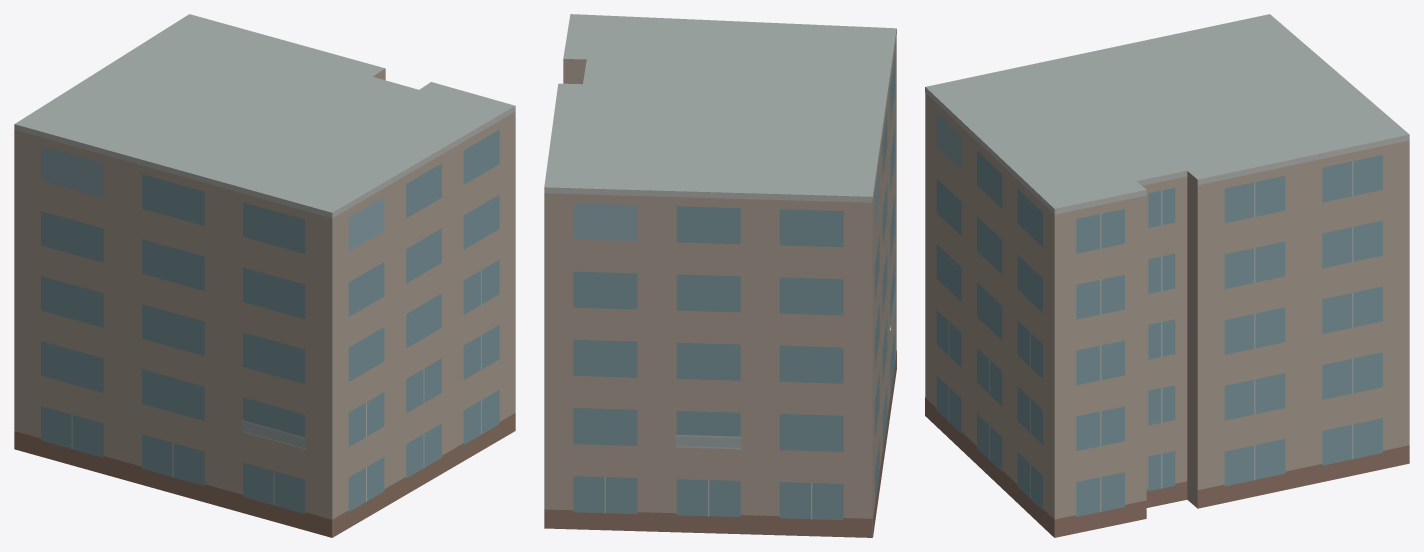
The model's file is survey-upis-32966754.glb.
The picture shows the model from 3 angles, left to right: view 1: azimuth 30°, elevation 25°; view 2: azimuth 150°, elevation 25°; view 3: azimuth 270°, elevation 25°; orthographic projection. The views are drawn at different scales.
Parts seen in each view (by area): view 1: survey-upis-32966754.tmp; view 2: survey-upis-32966754.tmp; view 3: survey-upis-32966754.tmp.
Boxes of the visible parts, x1=… form: survey-upis-32966754.tmp: x1=14, y1=14, x2=515, y2=537; survey-upis-32966754.tmp: x1=544, y1=14, x2=896, y2=537; survey-upis-32966754.tmp: x1=925, y1=14, x2=1409, y2=537.
Size of the model in its own units: 17.86 by 14.05 by 18.76.
